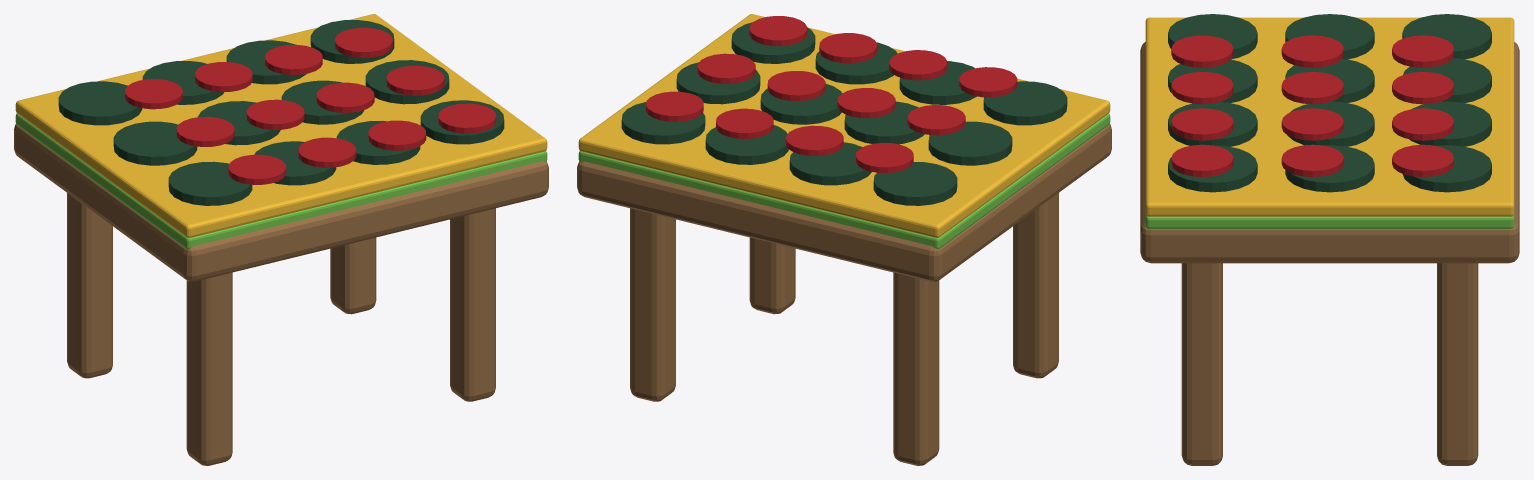
Rendered from best.glb.
3 renders of one model, left to right at view 1: azimuth 30°, elevation 25°; view 2: azimuth 150°, elevation 25°; view 3: azimuth 270°, elevation 25°, orthographic. The views are drawn at different scales.
Parts seen in each view (by area): view 1: Leg, Sandwich layer.002, Cucumber slice, Sandwich layer, Sandwich layer.001; view 2: Leg, Cucumber slice, Sandwich layer.002, Sandwich layer, Sandwich layer.001; view 3: Leg, Sandwich layer.002, Cucumber slice, Sandwich layer, Sandwich layer.001.
Part boxes in pixels (bbox=[...]): Leg: bbox=[14, 124, 548, 465]; Sandwich layer.002: bbox=[15, 14, 547, 237]; Cucumber slice: bbox=[58, 20, 504, 205]; Sandwich layer: bbox=[125, 27, 496, 184]; Sandwich layer.001: bbox=[15, 113, 547, 249]; Leg: bbox=[577, 124, 1111, 465]; Cucumber slice: bbox=[621, 22, 1067, 205]; Sandwich layer.002: bbox=[578, 14, 1110, 237]; Sandwich layer: bbox=[646, 16, 1017, 172]; Sandwich layer.001: bbox=[578, 113, 1110, 249]; Leg: bbox=[1140, 42, 1519, 465]; Sandwich layer.002: bbox=[1145, 17, 1514, 216]; Cucumber slice: bbox=[1168, 14, 1491, 192]; Sandwich layer: bbox=[1171, 35, 1453, 177]; Sandwich layer.001: bbox=[1145, 214, 1514, 228].
Size of the model in its own units: 1 by 0.7385 by 0.8462.
